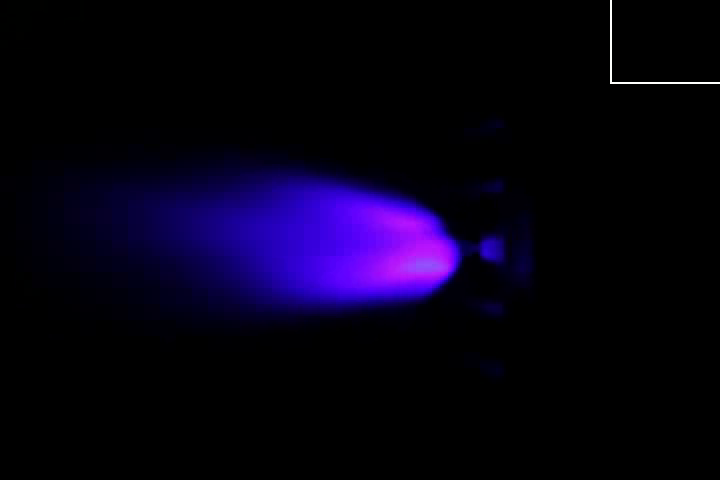burner cap: (477, 231, 505, 261)
unstable: (325, 178, 482, 306)
